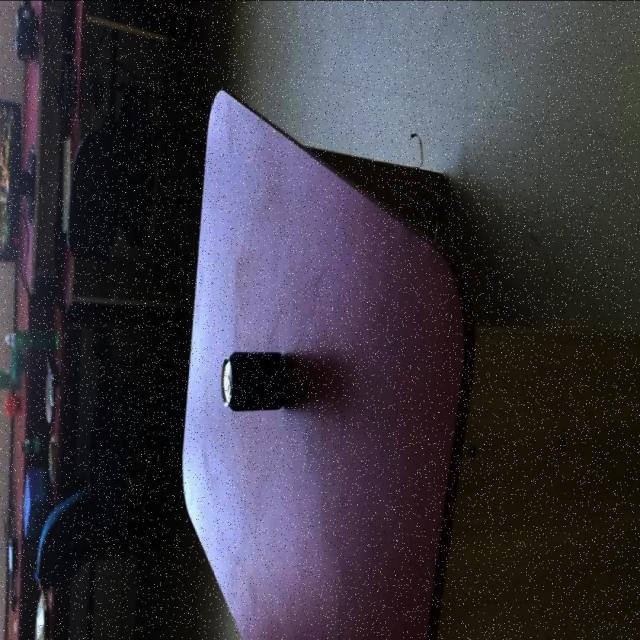Tonic: (220, 349, 284, 410), (4, 327, 58, 350), (18, 434, 50, 454), (0, 365, 19, 391)
